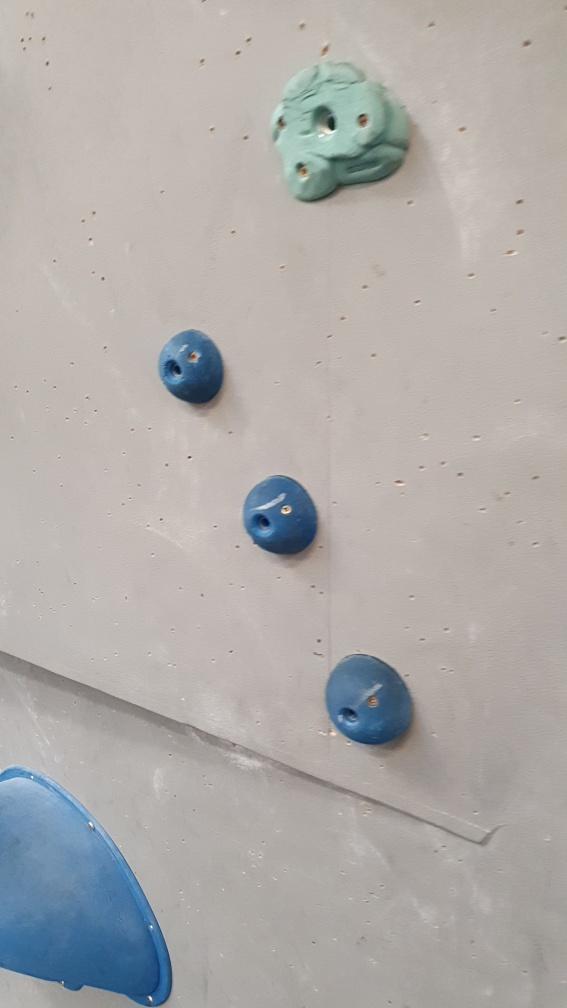Sloper: (323, 651, 417, 751), (243, 472, 320, 557), (155, 327, 224, 403)
